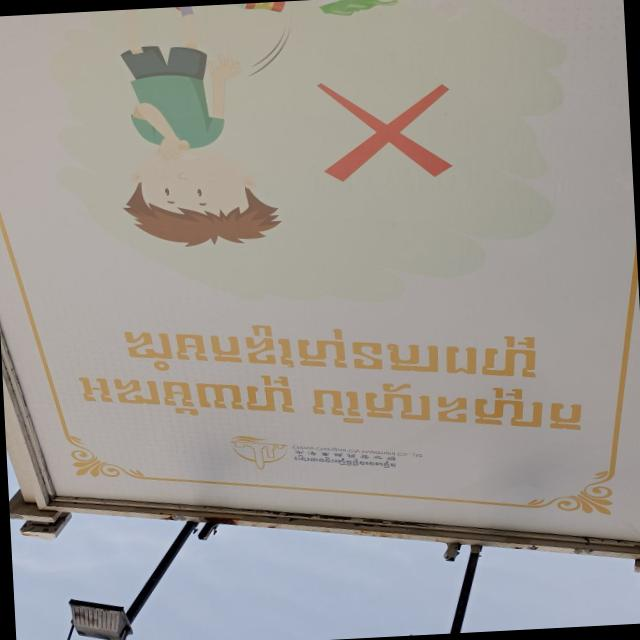1: (75, 364, 585, 440)
Yolov11kh: (111, 321, 553, 387), (292, 454, 398, 471)
